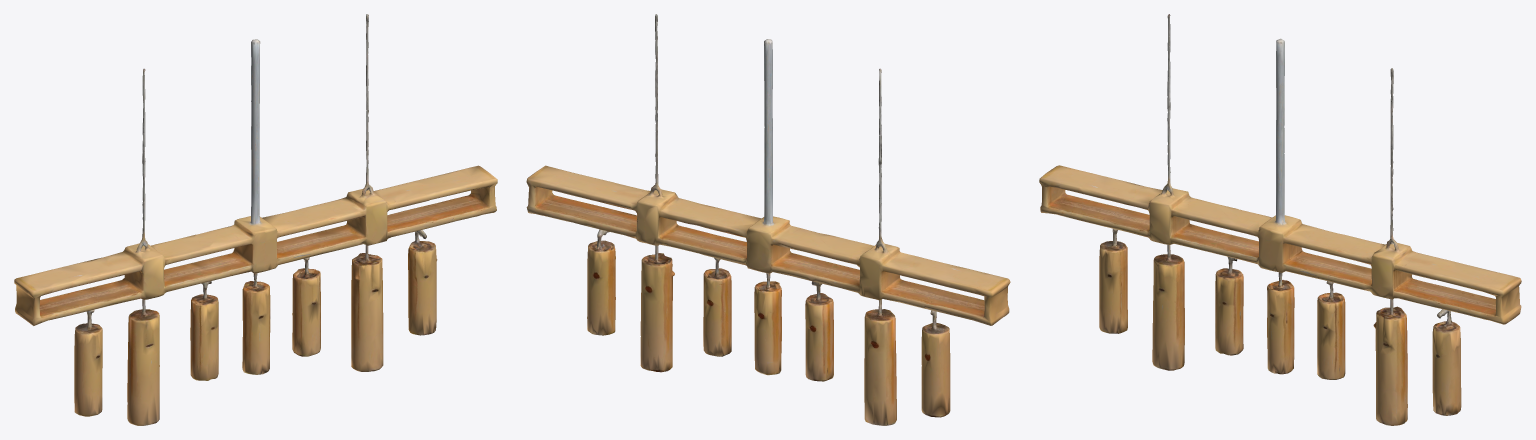
Rendered from cigar-statement-chandelier.glb.
The picture shows the model from 3 angles, left to right: view 1: azimuth 30°, elevation 25°; view 2: azimuth 150°, elevation 25°; view 3: azimuth 330°, elevation 25°; orthographic projection.
Bounding box in the file's own units: 2 × 1.45 × 0.145.
1 material, 1 textured.
